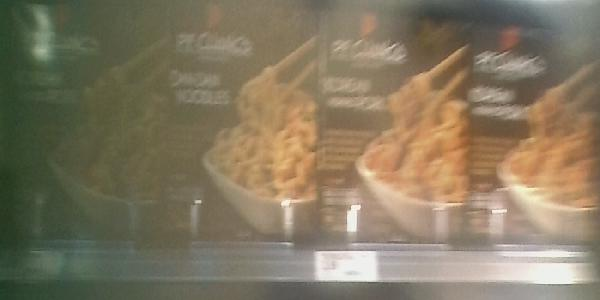pizza1: (162, 1, 315, 244), (318, 3, 472, 244), (2, 1, 159, 235), (474, 17, 600, 246)
